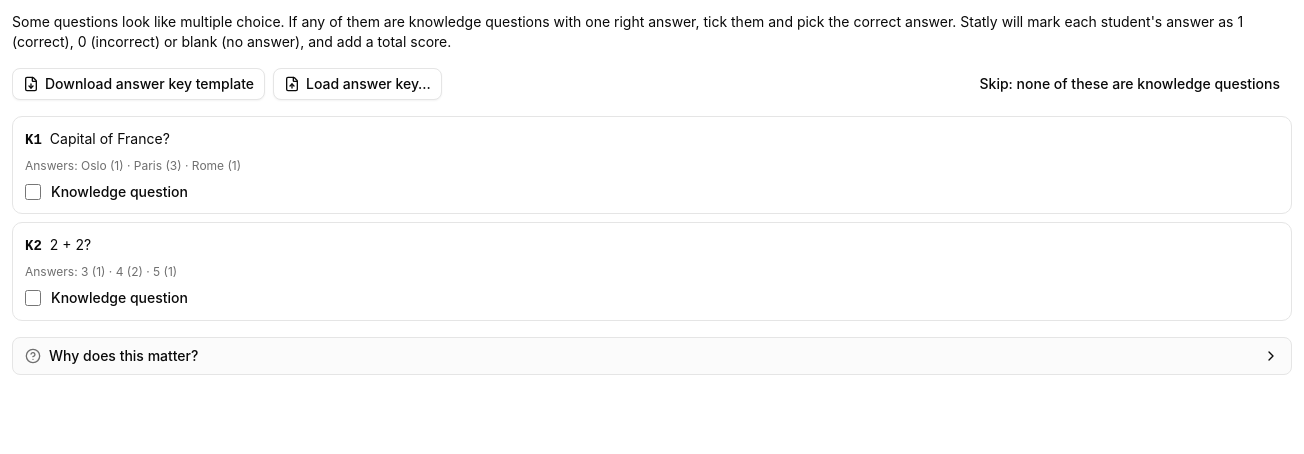
Test: StepKnowledge › downloads an answer key template for the candidate questions
Click the button "Download answer key template".
click(138, 84)  # box left=12, top=68, right=265, bottom=100
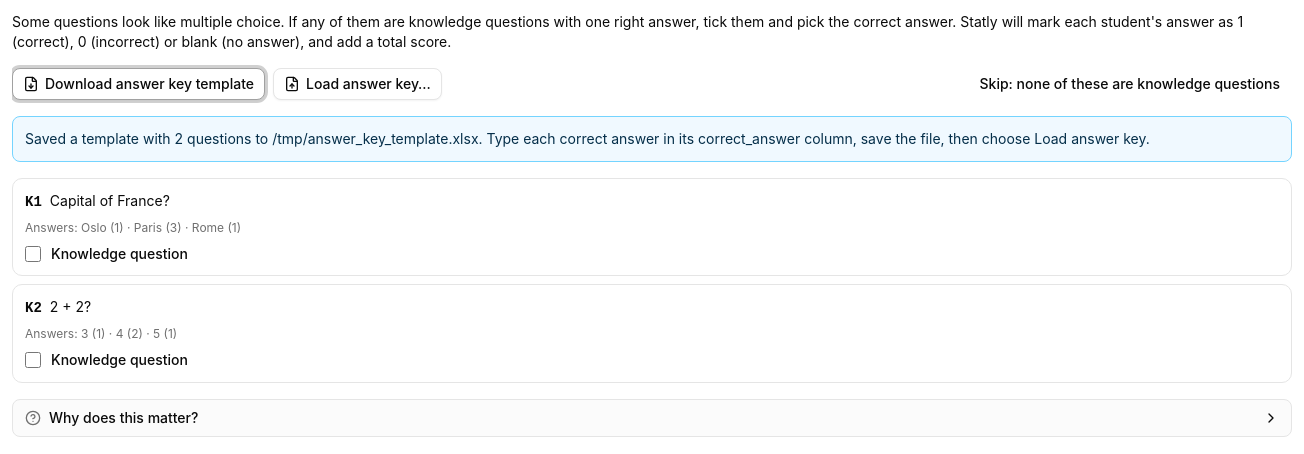
Expected: the text "Saved a template with 2 questions" is shown, left=25, top=130, right=1150, bottom=147
